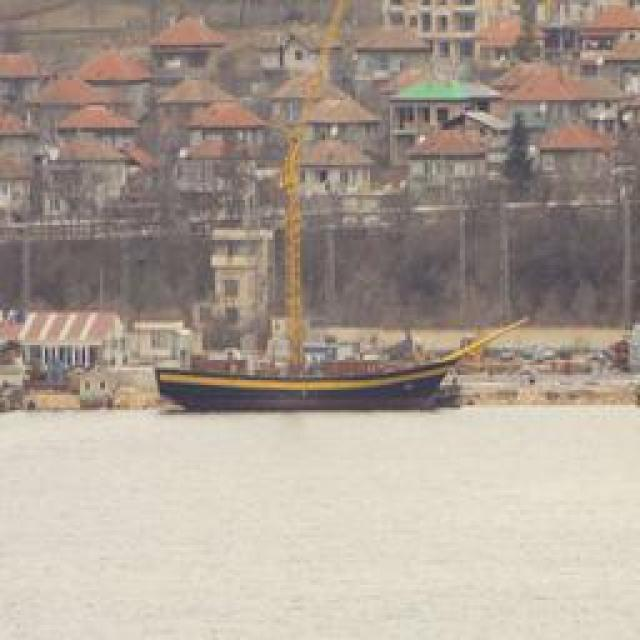CIV_Ship: (160, 342, 462, 412)
